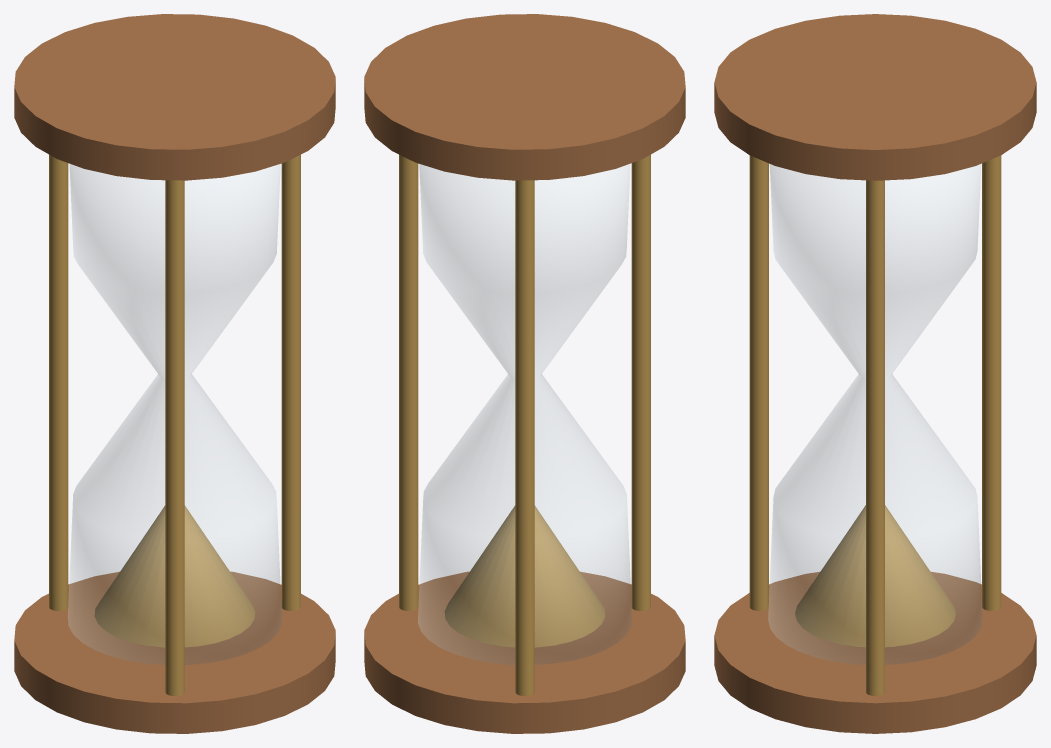
Rendered from wp-sablier.glb.
3 views of the same model, side by side, from view 1: azimuth 30°, elevation 25°; view 2: azimuth 150°, elevation 25°; view 3: azimuth 270°, elevation 25° (orthographic).
Visible parts, largest first — view 1: wp-sablier; view 2: wp-sablier; view 3: wp-sablier.
Boxes of the visible parts, <box> form: wp-sablier: <box>14,14,335,733</box>; wp-sablier: <box>364,14,685,733</box>; wp-sablier: <box>714,14,1036,733</box>.
Bounding box in the file's own units: 0.15 × 0.3 × 0.15.
